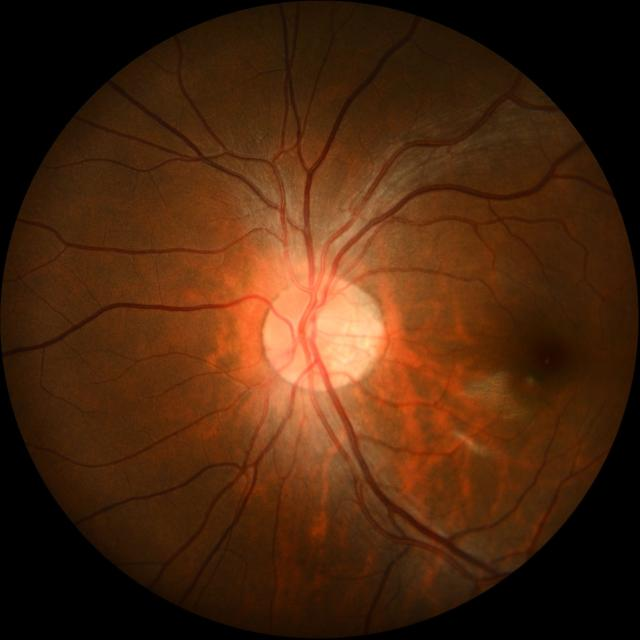OC: (297, 308, 333, 346)
OD: (262, 280, 368, 388)
